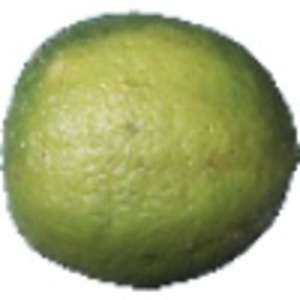limão: (1, 12, 300, 289)
